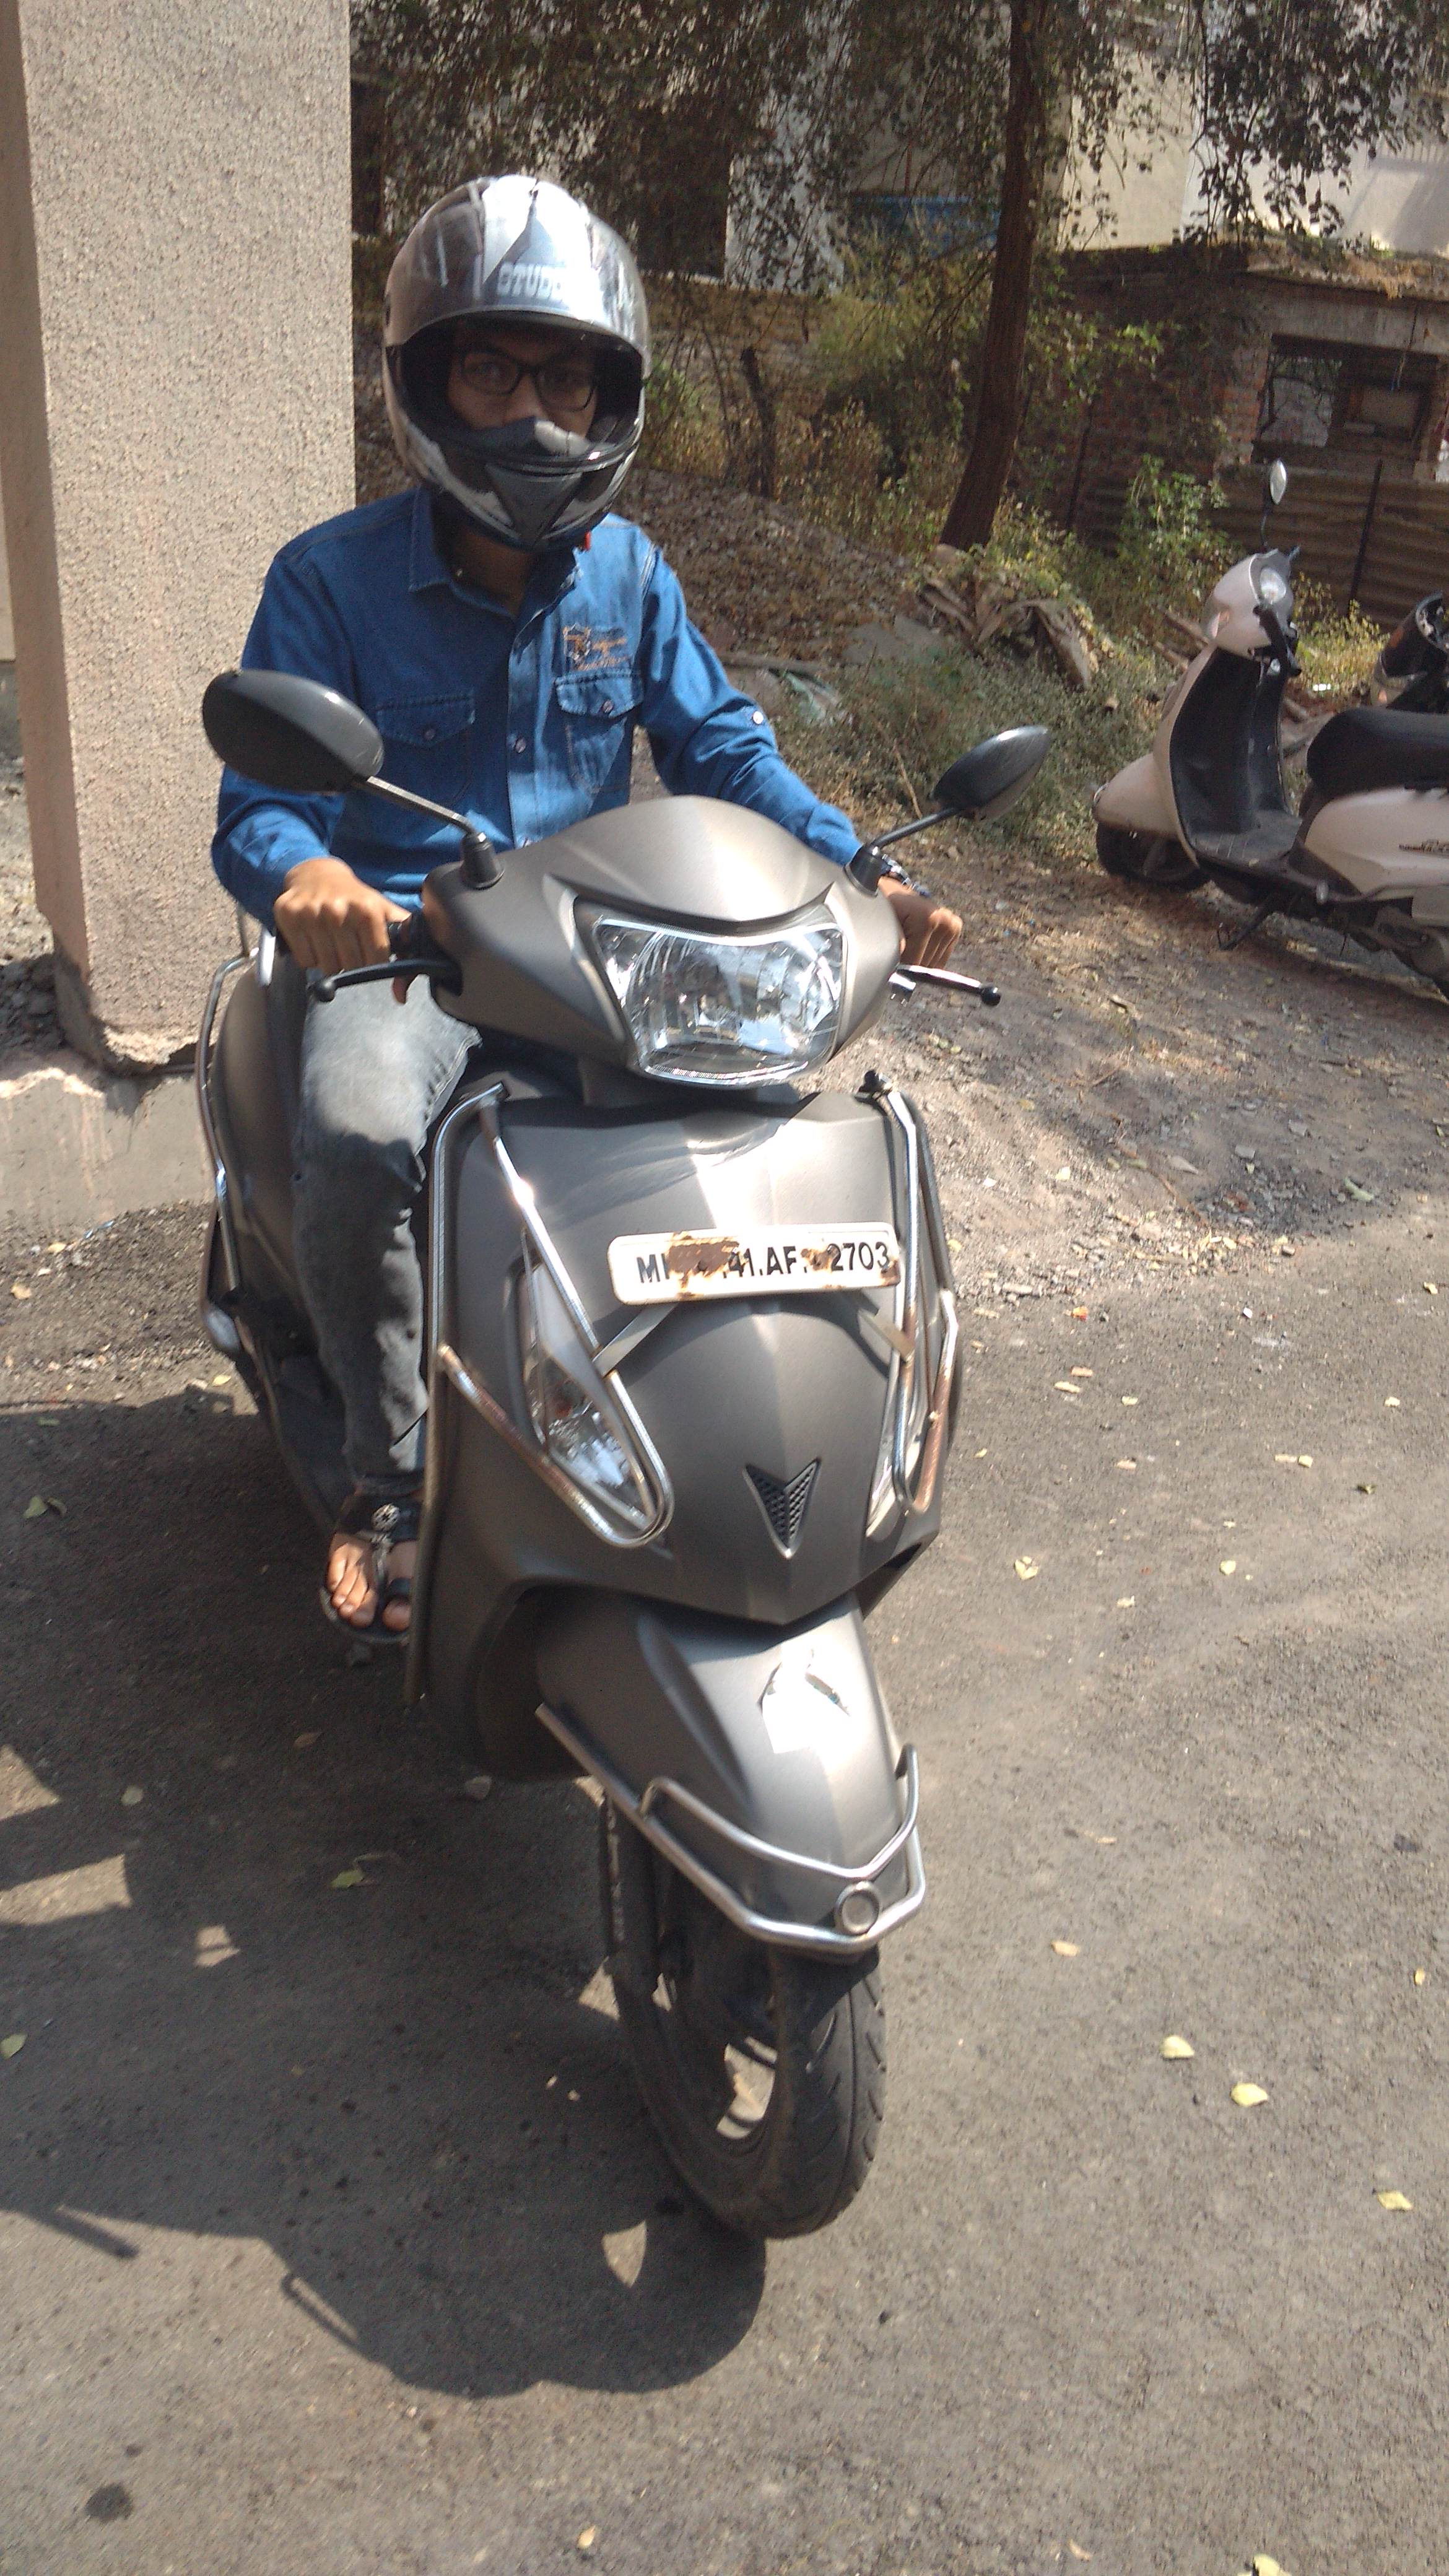helmet: (184, 149, 1005, 1260)
